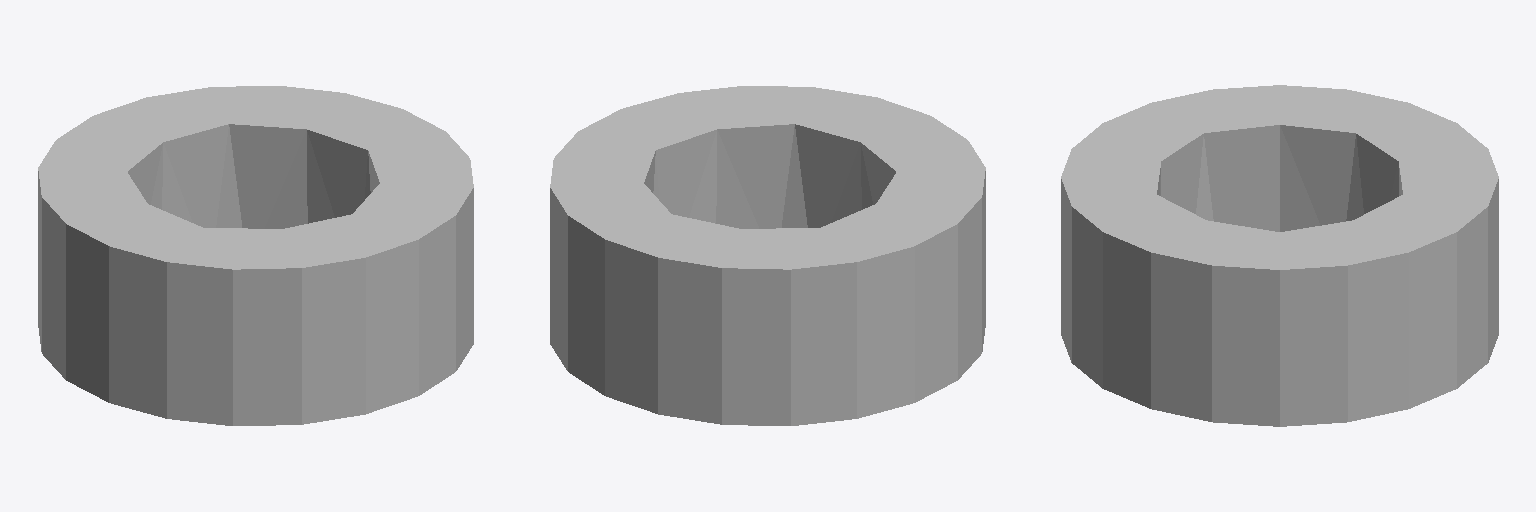
Rendered from LWheel.obj.
3 renders of one model, left to right at view 1: azimuth 30°, elevation 25°; view 2: azimuth 150°, elevation 25°; view 3: azimuth 270°, elevation 25°, orthographic.
Visible parts, largest first — view 1: LWheel:Mesh; view 2: LWheel:Mesh; view 3: LWheel:Mesh.
Boxes of the visible parts, <box> form: LWheel:Mesh: <box>38,86,473,425</box>; LWheel:Mesh: <box>550,86,985,425</box>; LWheel:Mesh: <box>1061,85,1498,426</box>.
Bounding box in the file's own units: 5.93 × 2.34 × 5.93.